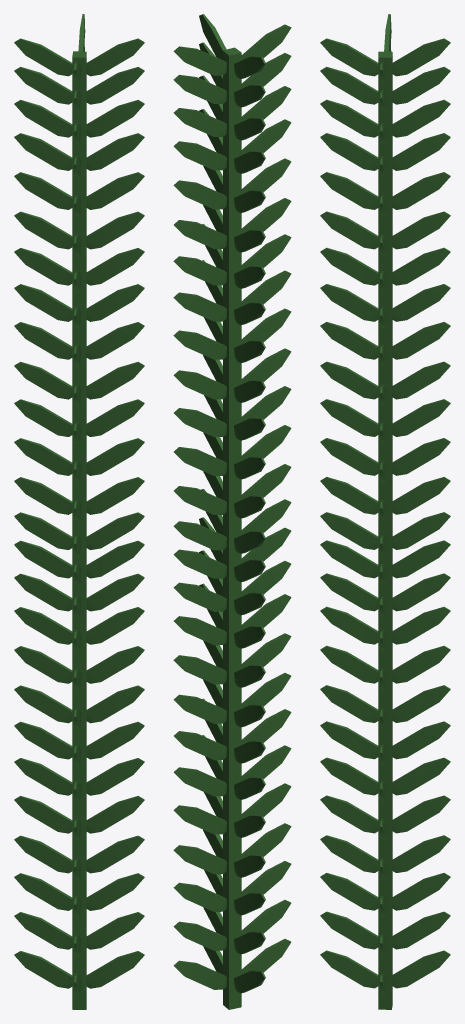
Rendered from SM_KelpPlaceHolder1_M.fbx.
3 views of the same model, side by side, from view 1: azimuth 90°, elevation 25°; view 2: azimuth 210°, elevation 25°; view 3: azimuth 270°, elevation 25° (orthographic).
Parts seen in each view (by area): view 1: kelp_m; view 2: kelp_m; view 3: kelp_m.
Boxes of the visible parts, x1,y1,x2,y2 form: kelp_m: (14,14,144,1009); kelp_m: (173,14,291,1009); kelp_m: (320,14,450,1009).
Size of the model in its own units: 81.15 by 666 by 81.26.
